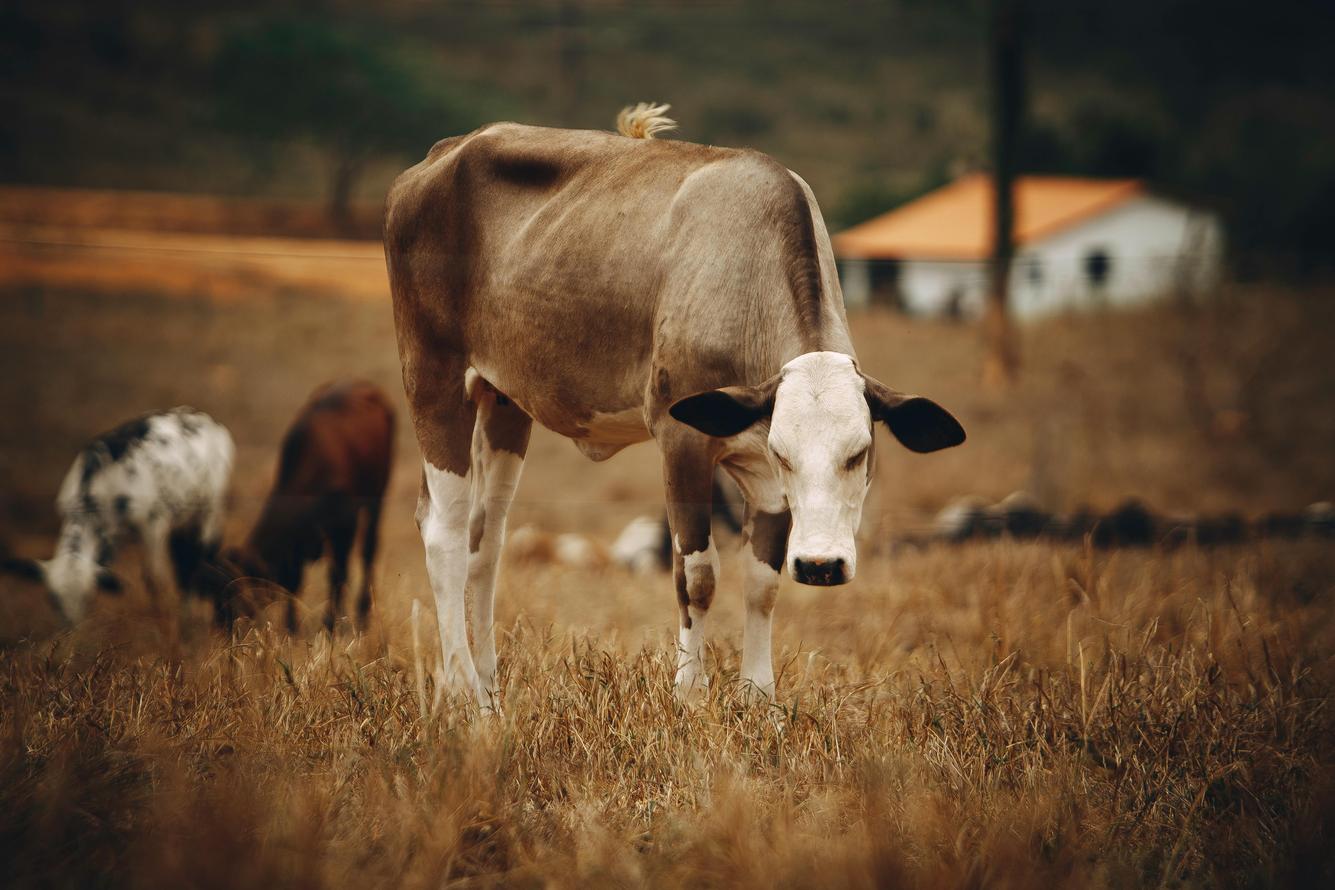bovino: (385, 122, 906, 720)
